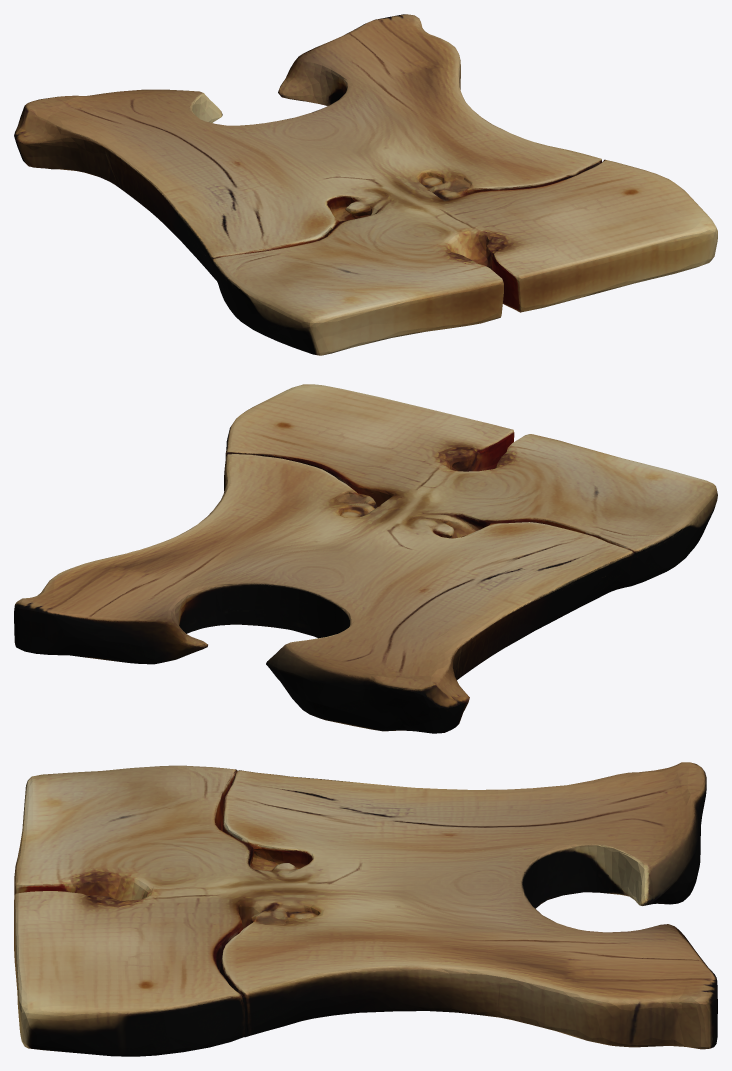
Rendered from driftwood-jigsaw-aged-hyperrealistic-furniture.jpeg.glb.
3 renders of one model, top to bottom at view 1: azimuth 30°, elevation 25°; view 2: azimuth 150°, elevation 25°; view 3: azimuth 270°, elevation 25°, orthographic. The views are drawn at different scales.
Visible parts, largest first — view 1: world; view 2: world; view 3: world.
Part boxes in pixels (x1=…): world: x1=14, y1=14, x2=717, y2=355; world: x1=14, y1=384, x2=717, y2=733; world: x1=14, y1=762, x2=717, y2=1056.
Size of the model in its own units: 0.8412 by 0.106 by 0.9891.
1 material, 1 textured.
